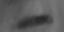LeftEyeFatigue: (6, 8, 56, 32)
